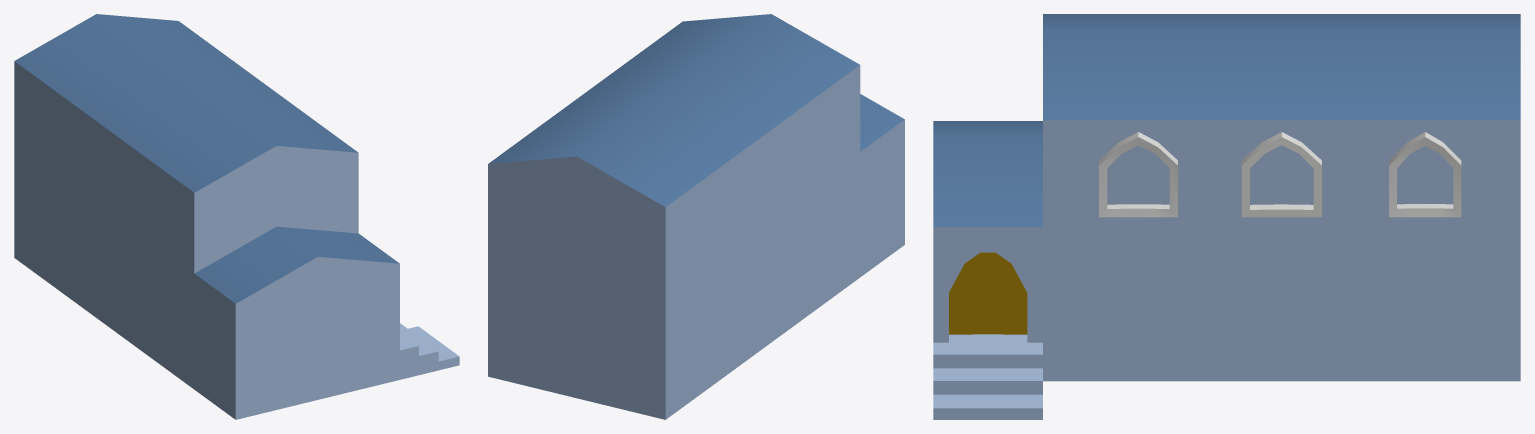
Rendered from building.fbx.
The picture shows the model from 3 angles, left to right: view 1: azimuth 30°, elevation 25°; view 2: azimuth 150°, elevation 25°; view 3: azimuth 270°, elevation 25°; orthographic projection. The views are drawn at different scales.
Parts seen in each view (by area): view 1: pCube1; view 2: pCube1; view 3: pCube1.
Part boxes in pixels (<box>): pCube1: <box>14,14,459,419</box>; pCube1: <box>488,14,904,419</box>; pCube1: <box>933,14,1520,419</box>.
Size of the model in its own units: 5.56 by 5.31 by 9.53.
